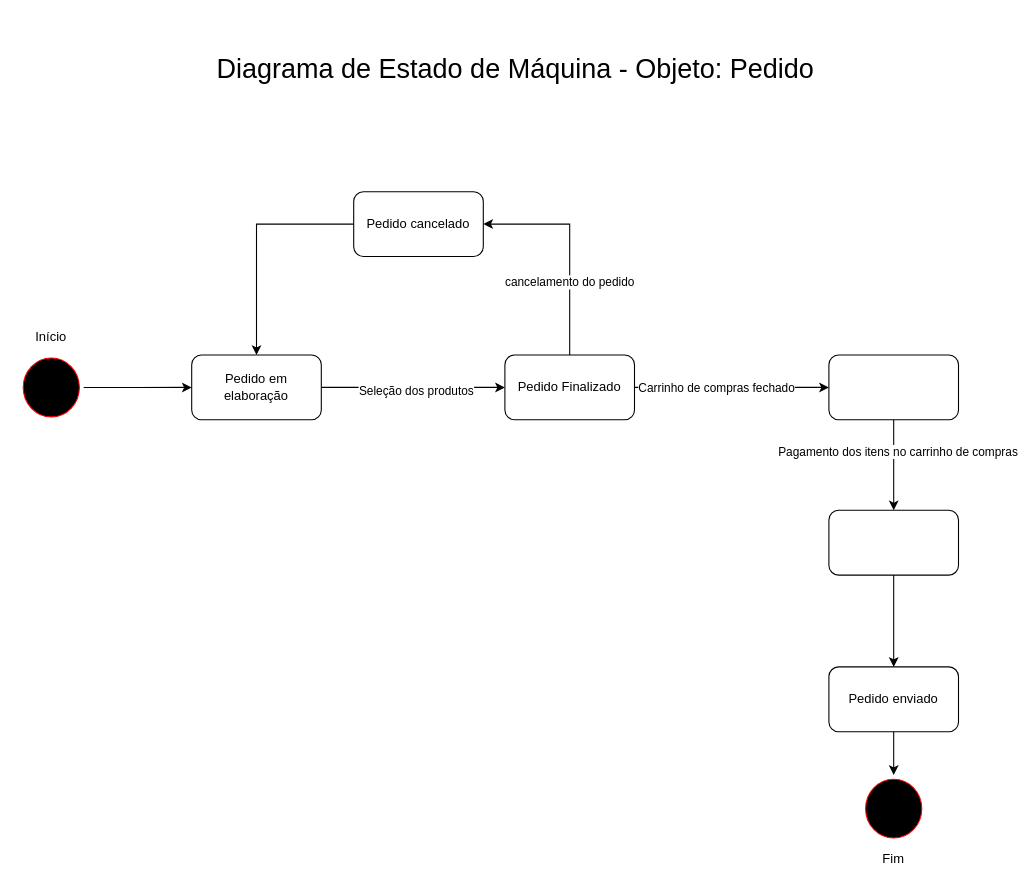
Some shapes in this 1036 by 893 pixel diagram are drawn without their labels. Here are the shapes that lost their labels. From the top down, the centre of each, then its label:
the point at 893,387: Pedido Aguardando Pagamento
the point at 893,542: Pedido Concluído
